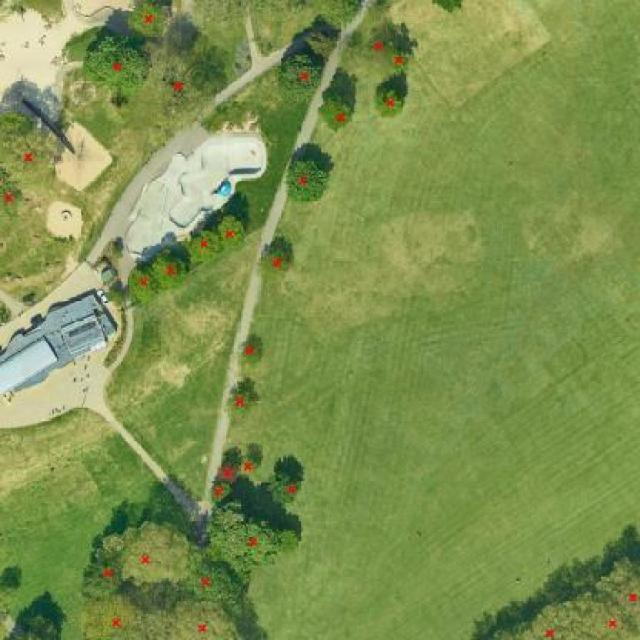tree: (202, 512, 305, 586), (73, 30, 159, 99), (115, 515, 191, 591), (0, 108, 62, 197), (176, 554, 262, 618), (591, 537, 640, 640), (147, 52, 210, 126), (149, 594, 249, 640), (563, 581, 640, 640), (73, 586, 153, 640), (276, 151, 338, 208), (270, 45, 325, 105), (494, 598, 572, 640), (79, 542, 132, 599), (311, 86, 360, 137), (252, 238, 300, 290), (4, 601, 66, 640), (219, 377, 261, 432), (123, 0, 177, 42), (0, 168, 31, 235), (125, 255, 162, 311), (370, 79, 416, 124), (205, 212, 250, 258), (298, 19, 342, 66), (263, 466, 306, 512), (153, 242, 187, 295), (182, 228, 221, 274), (233, 330, 270, 373), (383, 46, 420, 83), (362, 20, 391, 66), (211, 462, 247, 498), (205, 476, 236, 507), (425, 0, 473, 20), (240, 451, 265, 483), (0, 565, 23, 597)
